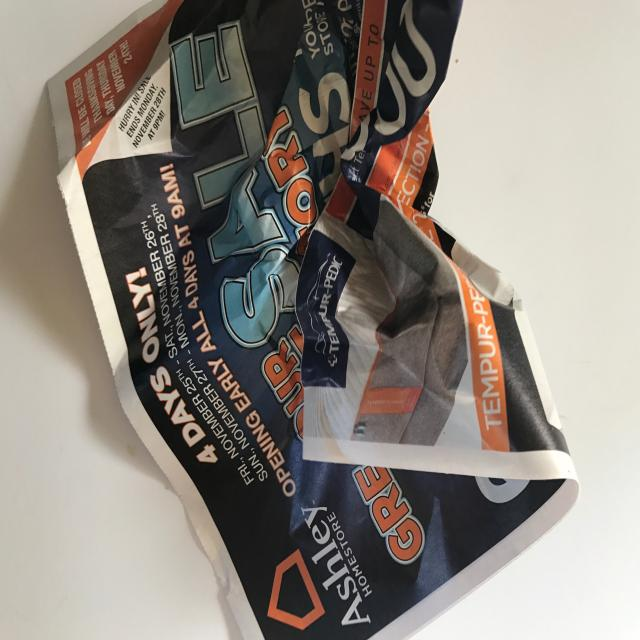paper: (38, 0, 588, 640)
